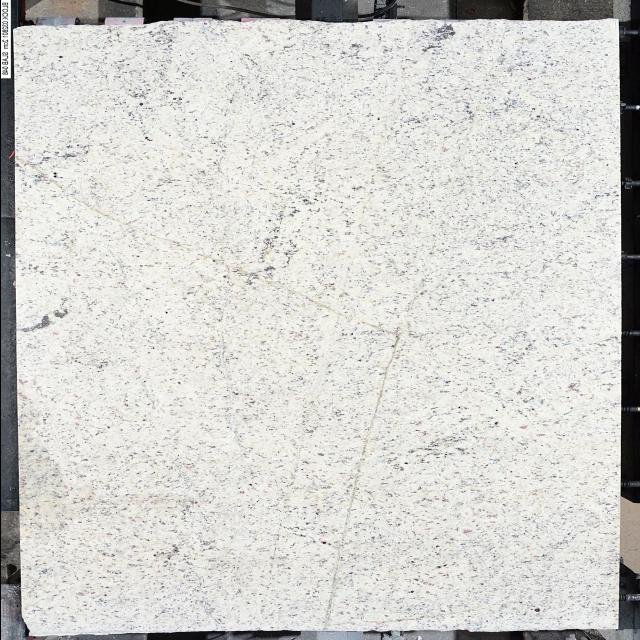chapa: (13, 19, 620, 634)
